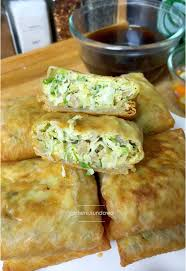Martabak telur: (0, 158, 99, 260), (31, 113, 145, 175), (37, 64, 142, 121)
